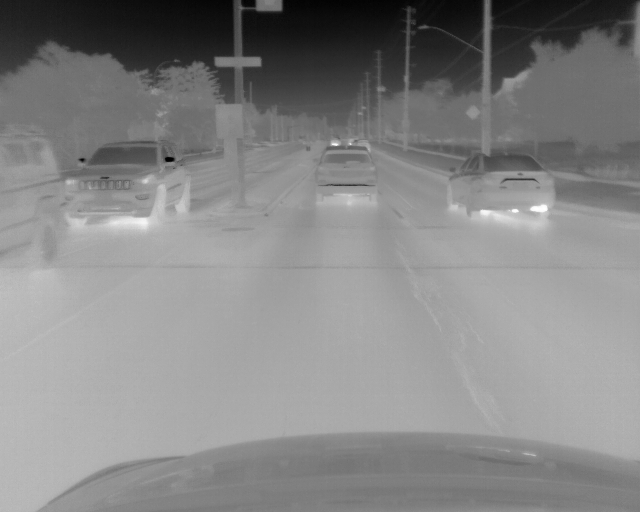car: (73, 141, 192, 226), (1, 130, 70, 273), (444, 151, 557, 222), (312, 145, 379, 205)
